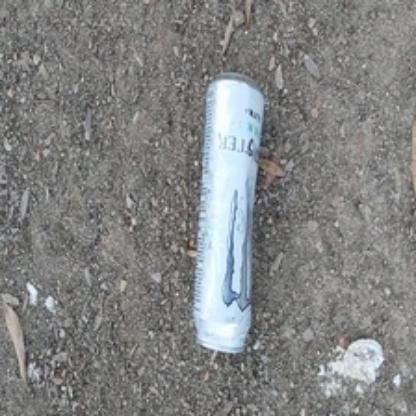Can: (193, 73, 267, 354)
